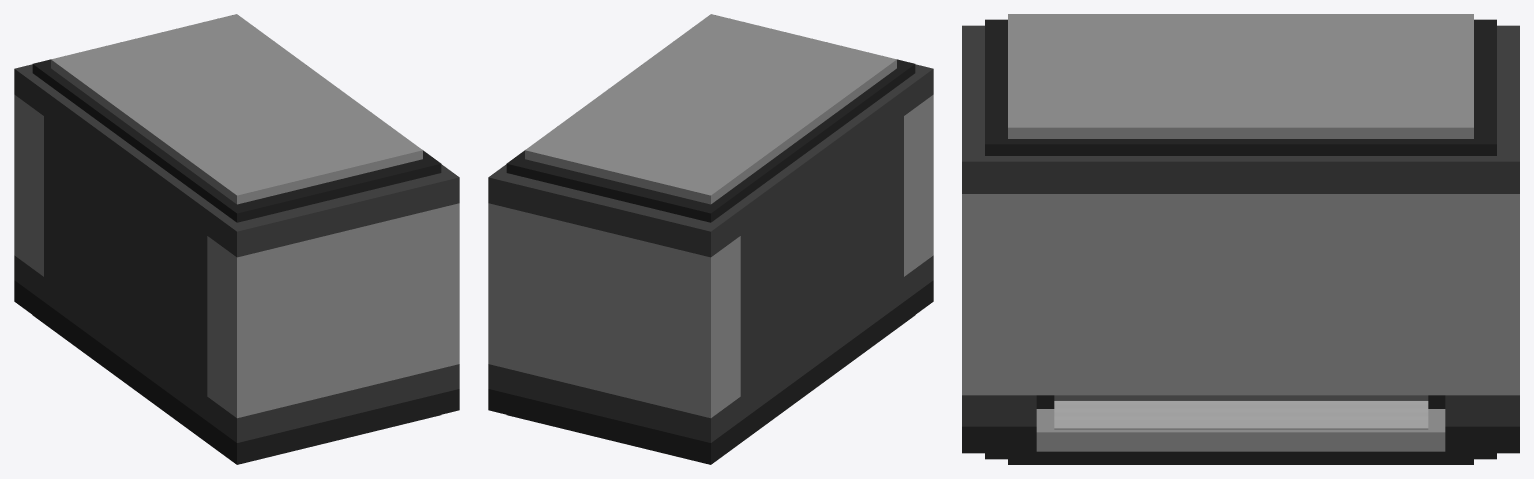
The model's file is Straw Holder.fbx.
3 renders of one model, left to right at view 1: azimuth 30°, elevation 25°; view 2: azimuth 150°, elevation 25°; view 3: azimuth 270°, elevation 25°, orthographic. The views are drawn at different scales.
Visible parts, largest first — view 1: Straw_Holder; view 2: Straw_Holder; view 3: Straw_Holder, Straw, Straw_2, Straw_1, Straw_3.
Boxes of the visible parts, x1=… form: Straw_Holder: x1=14, y1=14, x2=459, y2=464; Straw_Holder: x1=488, y1=14, x2=933, y2=464; Straw_Holder: x1=962, y1=14, x2=1519, y2=464; Straw: x1=1054, y1=416, x2=1428, y2=429; Straw_2: x1=1054, y1=400, x2=1428, y2=408; Straw_1: x1=1054, y1=408, x2=1428, y2=416; Straw_3: x1=1054, y1=395, x2=1428, y2=399.
Bounding box in the file's own units: 11.8 × 12.37 × 18.54.
1 material, 1 textured.
